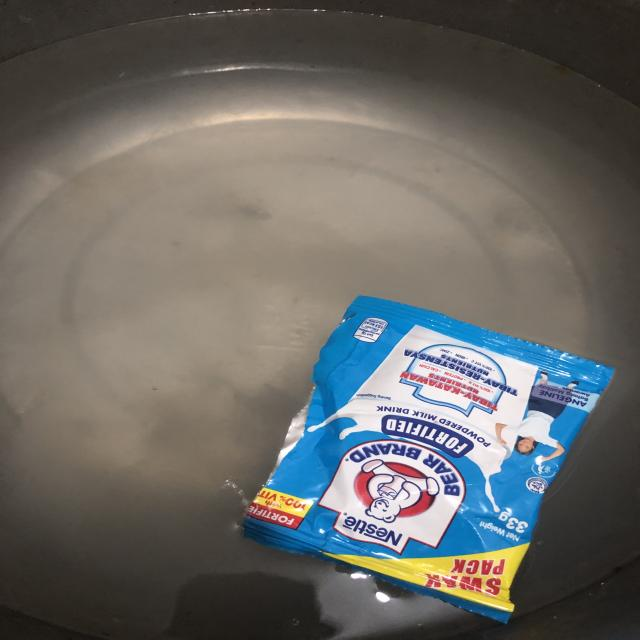Plastic Wrapper: (244, 296, 613, 620)
